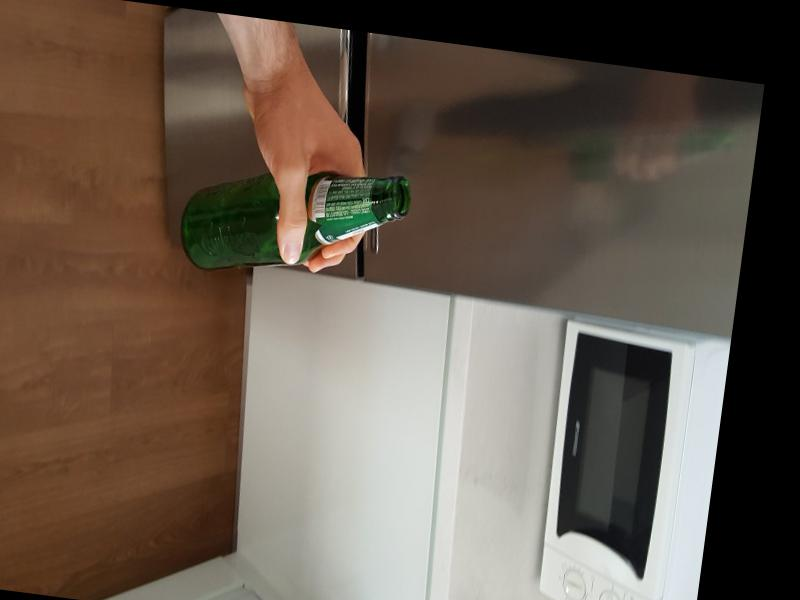Beer: (174, 148, 413, 292)
